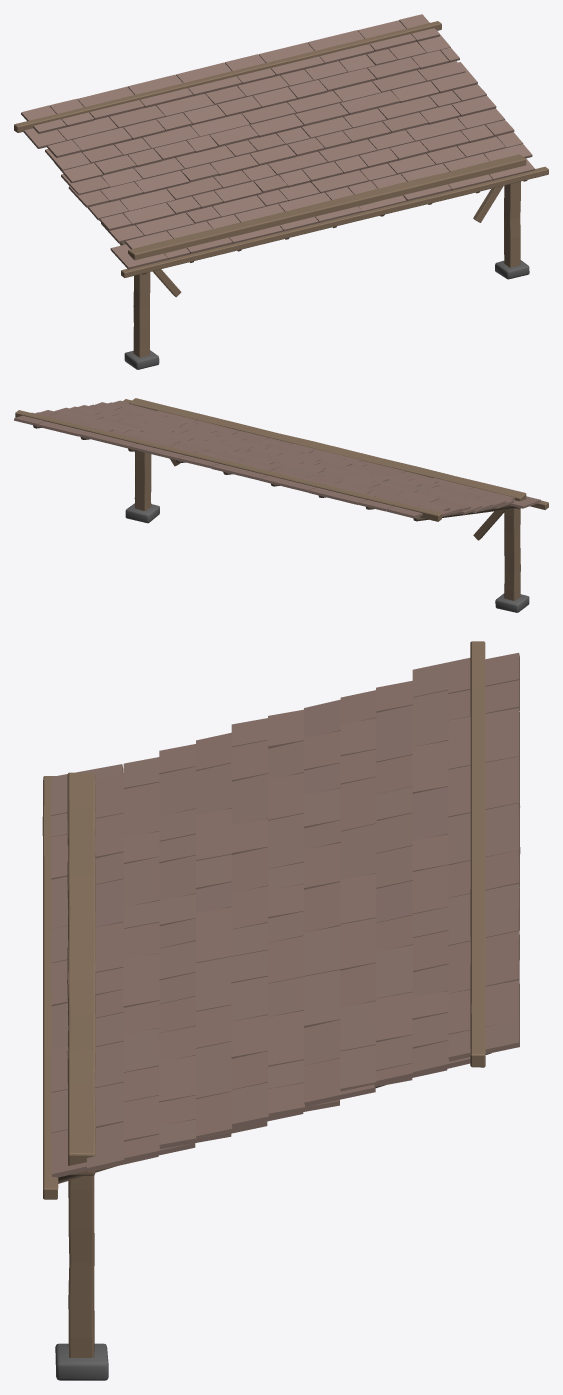
File: forge_shed.glb
3 views of the same model, one above another, from view 1: azimuth 30°, elevation 25°; view 2: azimuth 150°, elevation 25°; view 3: azimuth 270°, elevation 25° (orthographic). The views are drawn at different scales.
Parts seen in each view (by area): view 1: forge_shed; view 2: forge_shed; view 3: forge_shed.
Boxes of the visible parts, x1,y1,x2,y2 form: forge_shed: (14,14,548,369); forge_shed: (14,398,548,612); forge_shed: (42,641,520,1380).
Size of the model in its own units: 7.8 by 3.06 by 3.81.
